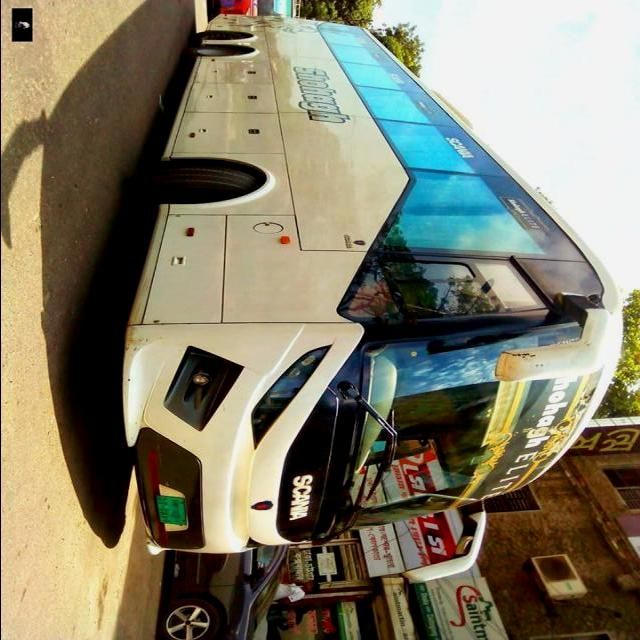bus: (119, 13, 627, 585)
